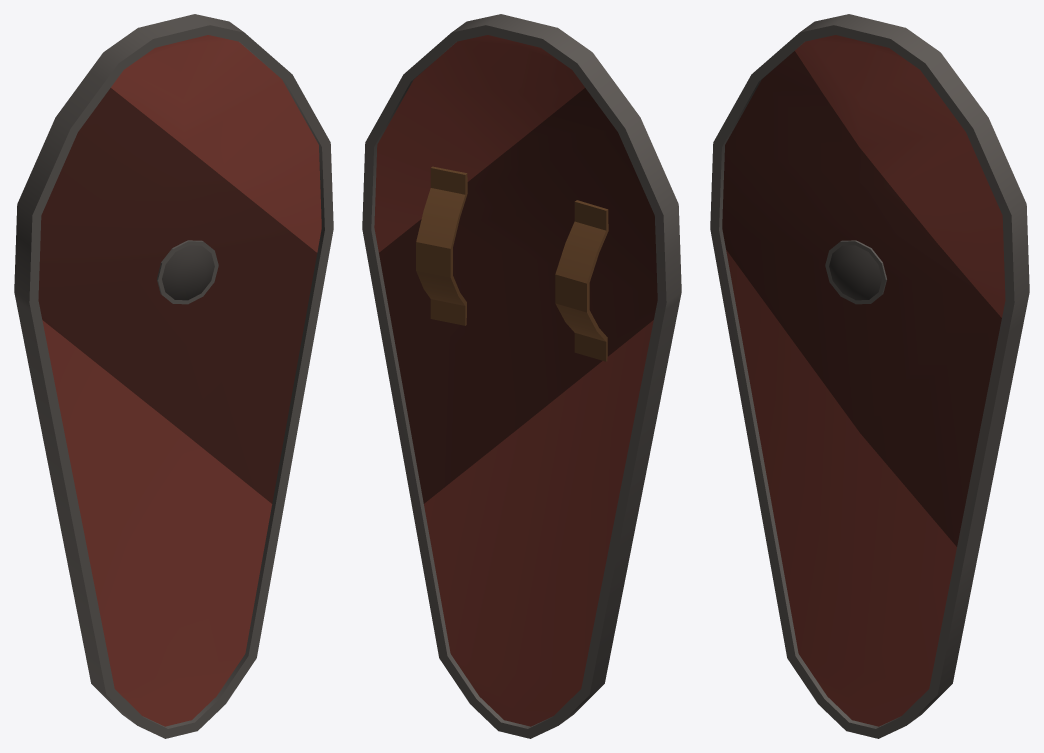
File: Kite Shield_Red.glb
3 views of the same model, side by side, from view 1: azimuth 30°, elevation 25°; view 2: azimuth 150°, elevation 25°; view 3: azimuth 330°, elevation 25° (orthographic).
Visible parts, largest first — view 1: Kite Shield_Red; view 2: Kite Shield_Red; view 3: Kite Shield_Red.
Boxes of the visible parts, x1=… form: Kite Shield_Red: x1=14, y1=14, x2=333, y2=738; Kite Shield_Red: x1=362, y1=14, x2=681, y2=738; Kite Shield_Red: x1=710, y1=14, x2=1029, y2=738.
Bounding box in the file's own units: 0.4323 × 0.9542 × 0.094.
Materials: 1 (1 with a texture image).
